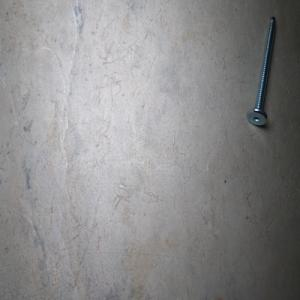Bolt: (246, 15, 276, 126)
